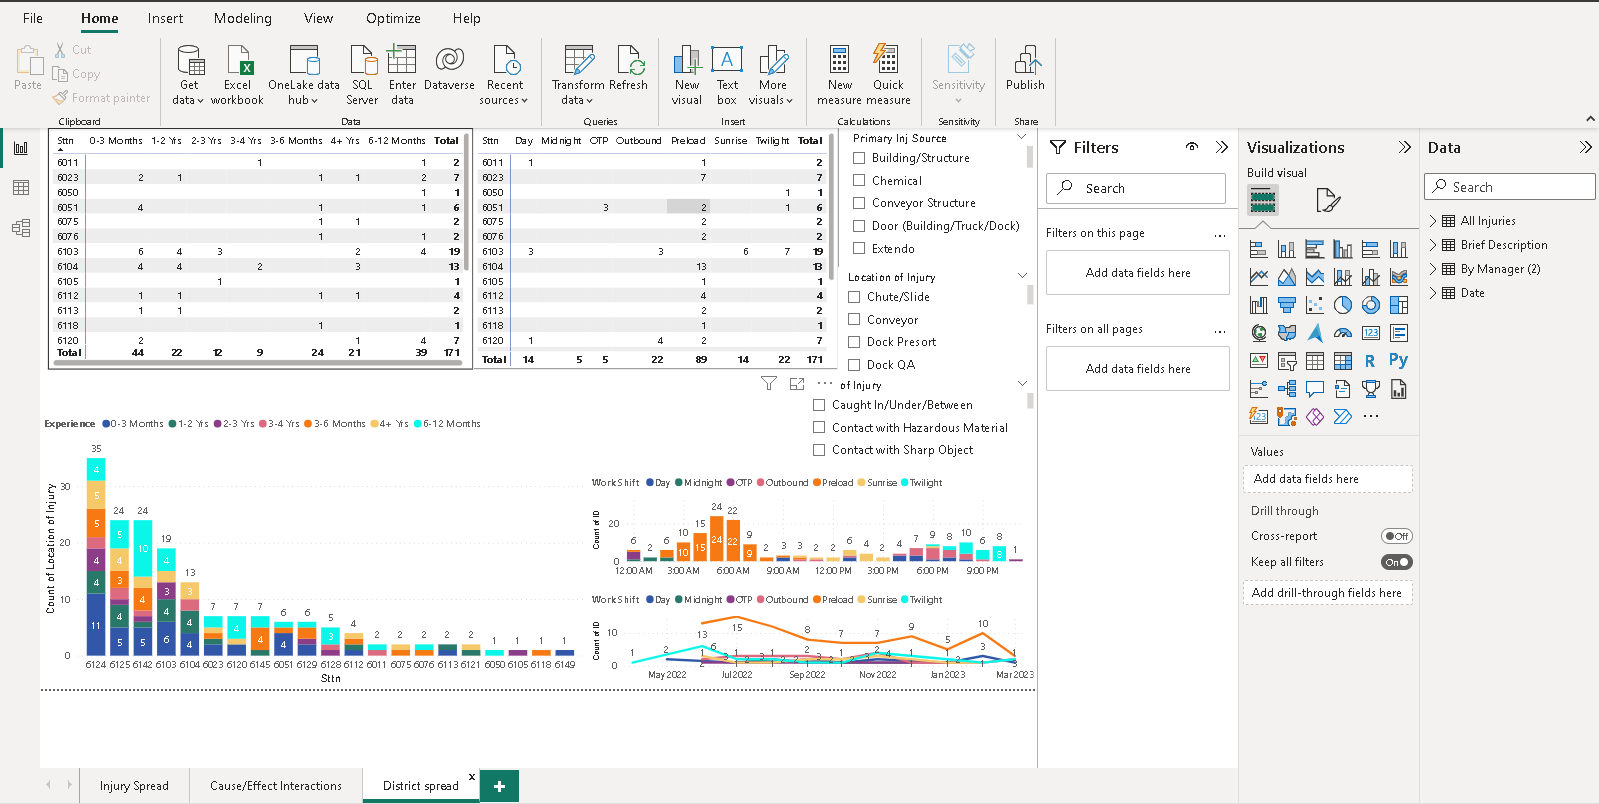

Layout of this report page (visuals, bound fields, positions):
{"tool":"powerbi","page":{"name":"District spread","canvas":[1280,720],"ordinal":2},"visuals":[{"type":"pivotTable","fields":{"Rows":["All Injuries.Sttn"],"Columns":["All Injuries.Experience"],"Values":["CountNonNull(All Injuries.FedEx ID)"]},"box":[9.7,0,545.7,310.3],"z":0},{"type":"slicer","fields":{"Values":["All Injuries.Type of Injury"]},"box":[979.5,317.1,300.5,118.7],"z":1000},{"type":"pivotTable","fields":{"Rows":["All Injuries.Sttn"],"Columns":["All Injuries.Work Shift"],"Values":["CountNonNull(All Injuries.Location of Injury)"]},"box":[555.4,0,468.8,310.3],"z":2000},{"type":"slicer","fields":{"Values":["All Injuries.Location of Injury"]},"box":[1024.2,178,255.8,139.1],"z":3000},{"type":"slicer","fields":{"Values":["All Injuries.Primary Inj Source"]},"box":[1031,0,249,178],"z":4000},{"type":"lineChart","fields":{"Category":["All Injuries.Date of Injury (bins)"],"Y":["CountNonNull(All Injuries.FedEx ID)"],"Series":["All Injuries.Work Shift"]},"box":[703.2,585.5,576.8,134.2],"z":5000},{"type":"columnChart","fields":{"Category":["All Injuries.Sttn"],"Y":["CountNonNull(All Injuries.Location of Injury)"],"Series":["All Injuries.Experience"]},"box":[0,359.9,703.2,359.9],"z":6000},{"type":"columnChart","fields":{"Category":["All Injuries.Time of Injury (bins)"],"Y":["CountNonNull(All Injuries.FedEx ID)"],"Series":["All Injuries.Work Shift"]},"box":[703.2,435.7,576.8,149.8],"z":7000}]}

Visuals, with their boxes on the page's 1280x720 design canvas (x1, y1, x2, y2). These are canvas units, not pixel positions in the 1599x804 screenshot, which may show the page scaled, cropped or inside an application window:
pivotTable - All Injuries.Sttn x All Injuries.Experience: bbox=[10, 0, 555, 310]
slicer - All Injuries.Type of Injury: bbox=[980, 317, 1280, 436]
pivotTable - All Injuries.Sttn x All Injuries.Work Shift: bbox=[555, 0, 1024, 310]
slicer - All Injuries.Location of Injury: bbox=[1024, 178, 1280, 317]
slicer - All Injuries.Primary Inj Source: bbox=[1031, 0, 1280, 178]
lineChart - All Injuries.Date of Injury (bins) x CountNonNull(All Injuries.FedEx ID): bbox=[703, 586, 1280, 720]
columnChart - All Injuries.Sttn x CountNonNull(All Injuries.Location of Injury): bbox=[0, 360, 703, 720]
columnChart - All Injuries.Time of Injury (bins) x CountNonNull(All Injuries.FedEx ID): bbox=[703, 436, 1280, 586]
